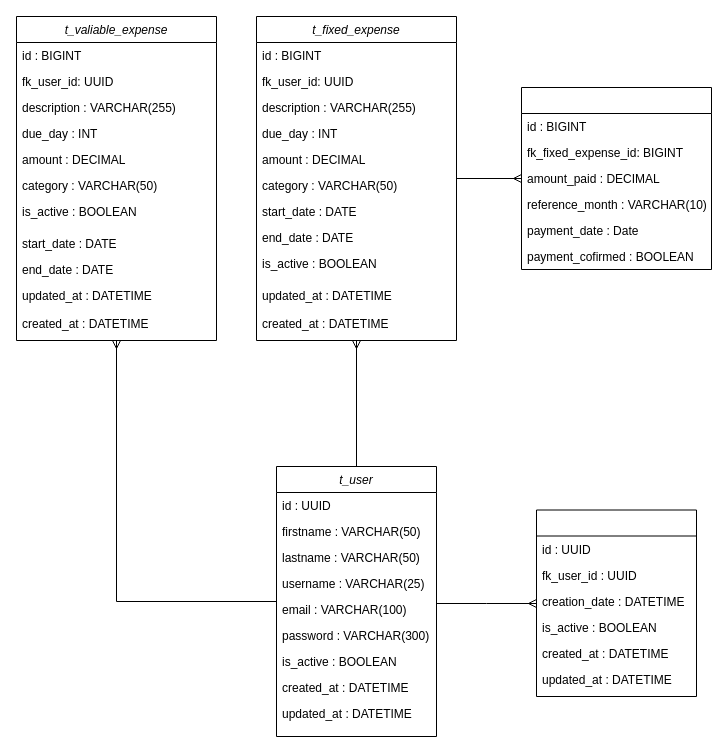
The diagram is 728 pixels wide and 753 high, and some of its shapes have lost their labels. The box of each missing label's shape, as (x1, y1, x2, y2) in pixels:
t_monthly_payment: (520, 86, 712, 270)
t_session: (536, 509, 696, 696)
